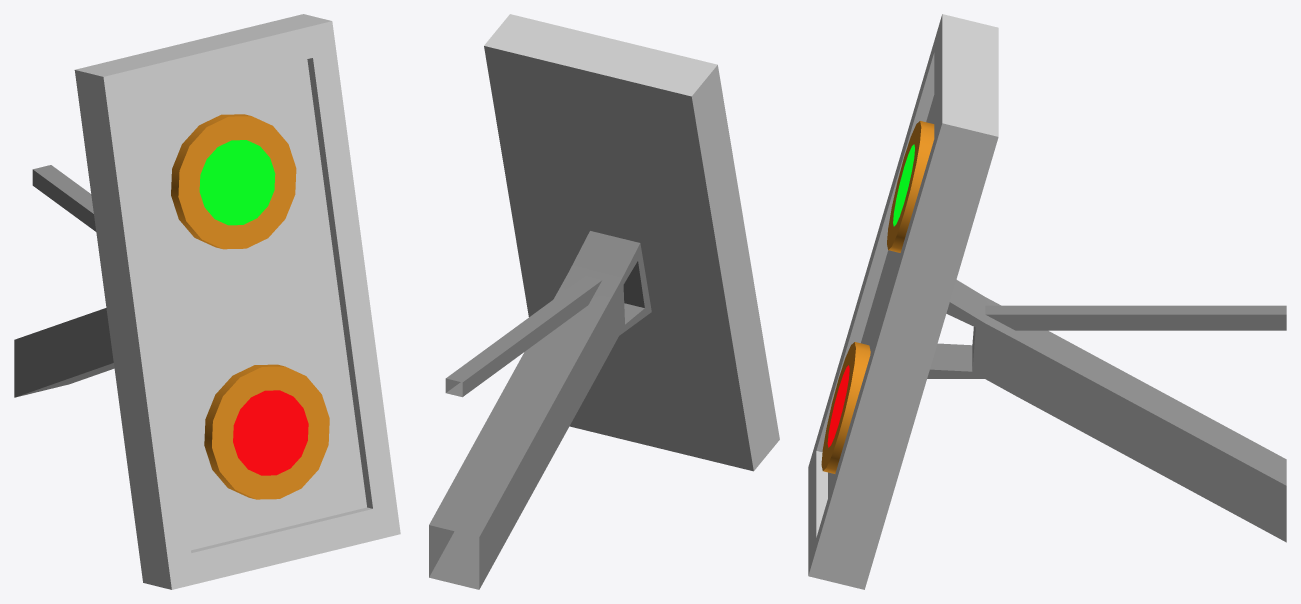
Rendered from button_panel.fbx.
3 views of the same model, side by side, from view 1: azimuth 30°, elevation 25°; view 2: azimuth 150°, elevation 25°; view 3: azimuth 270°, elevation 25° (orthographic). The views are drawn at different scales.
Visible parts, largest first — view 1: button_panel; view 2: button_panel; view 3: button_panel.
Part boxes in pixels (bbox=[...]): button_panel: bbox=[14, 14, 400, 589]; button_panel: bbox=[429, 14, 779, 589]; button_panel: bbox=[808, 14, 1286, 589].
Bounding box in the file's own units: 0.1733 × 0.3452 × 0.3206.
